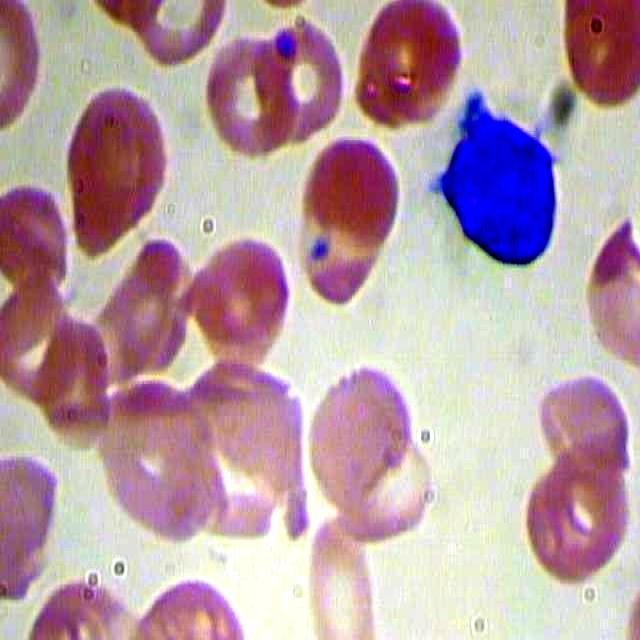RBC: (49, 83, 171, 260), (296, 131, 402, 313), (303, 352, 424, 509), (173, 228, 292, 380), (514, 456, 633, 585), (353, 1, 462, 135), (540, 359, 640, 480), (205, 28, 299, 156), (256, 14, 350, 142), (1, 449, 69, 607), (574, 210, 640, 370), (304, 512, 383, 640), (562, 1, 640, 115), (1, 176, 70, 299)
WBC: (423, 101, 572, 284)
